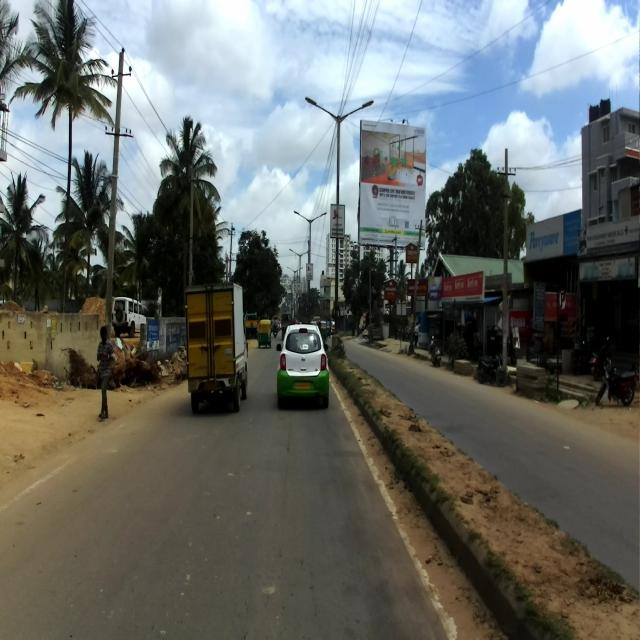Car_Nissan: (273, 319, 334, 413)
motorcycle_Hero: (594, 349, 636, 413)
